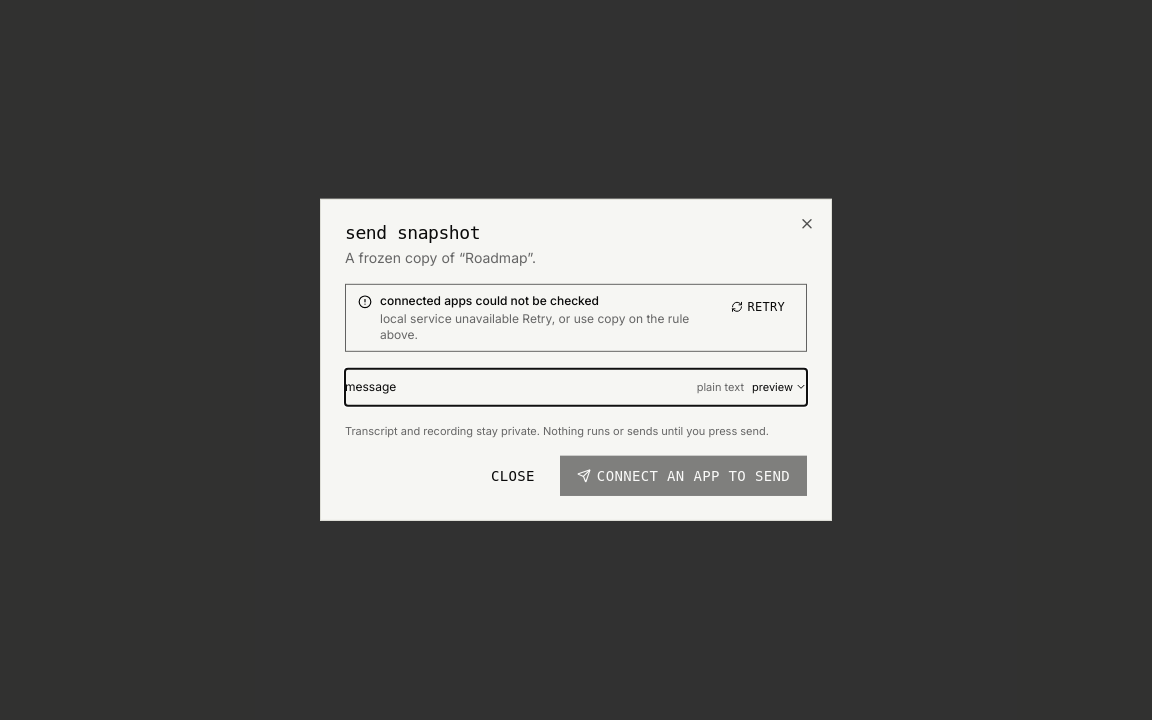
Scenario: ConnectedShareDialog › stays unsendable and recovers when connection discovery fails
Expected: the message with test id "connected-share-connections-error" shows "local service unavailable", [380,311,519,326]
Expected: the button with test id "connected-share-confirm" is disabled, [560,456,807,496]
Click the button "retry" at {"x": 758, "y": 307}, box [722,293,794,321]
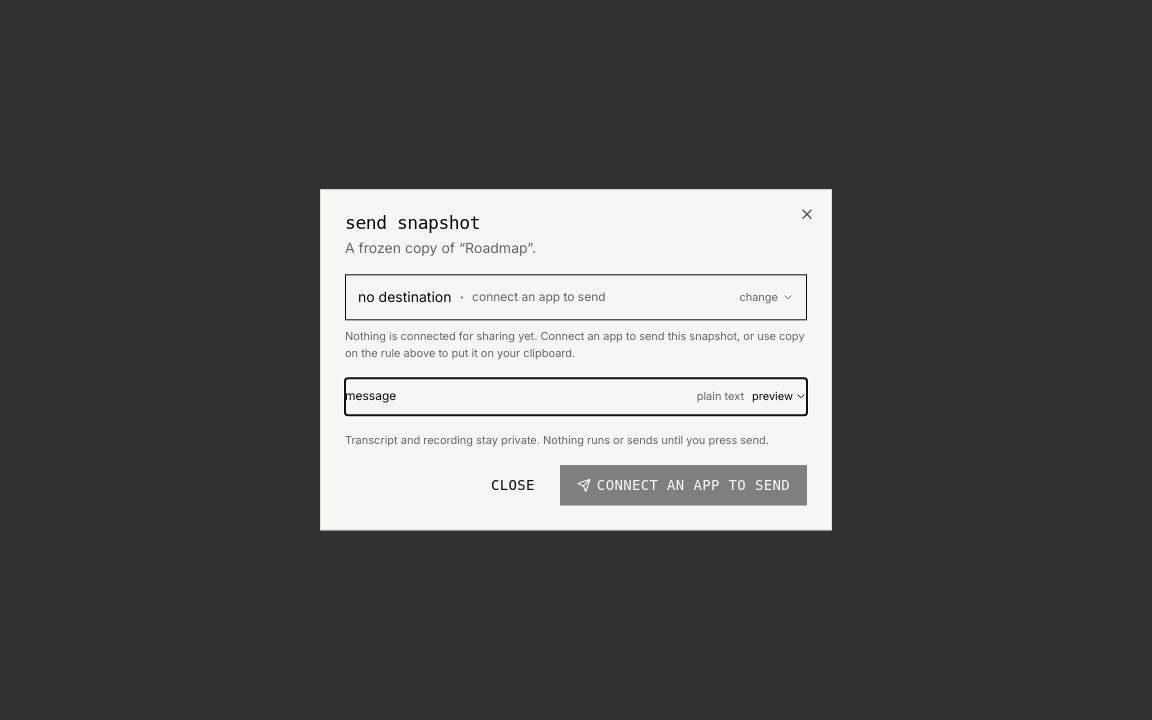
Expected: the button with test id "connected-share-confirm" is disabled, [560,466,807,506]
Result: the text with test id "connected-share-empty" is shown at [345,328,807,361]
Result: the message with test id "connected-share-connections-error" is gone
